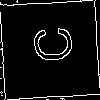C: (25, 25, 73, 65)
